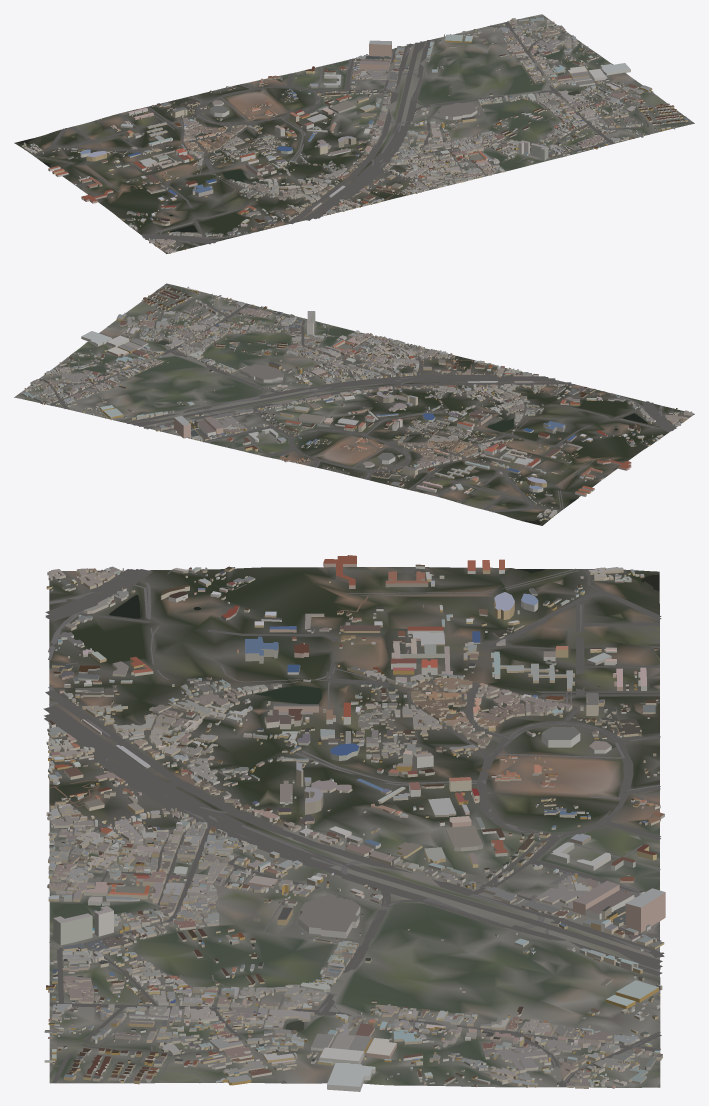
3 views of the same model, one above another, from view 1: azimuth 30°, elevation 25°; view 2: azimuth 150°, elevation 25°; view 3: azimuth 270°, elevation 25° (orthographic). The views are drawn at different scales.
Parts seen in each view (by area): view 1: ground, buildings, roads, water; view 2: ground, buildings, roads, water; view 3: ground, buildings, roads, water.
Boxes of the visible parts, <box> form: ground: <box>14,14,694,253</box>; buildings: <box>21,17,687,253</box>; roads: <box>32,22,693,246</box>; water: <box>17,91,579,231</box>; ground: <box>14,283,694,525</box>; buildings: <box>22,285,693,521</box>; roads: <box>38,284,676,515</box>; water: <box>158,340,647,524</box>; ground: <box>49,567,660,1087</box>; buildings: <box>44,555,665,1091</box>; roads: <box>43,567,664,1087</box>; water: <box>109,569,659,1030</box>.
Bounding box in the file's own units: 2889 × 76.01 × 1428.
